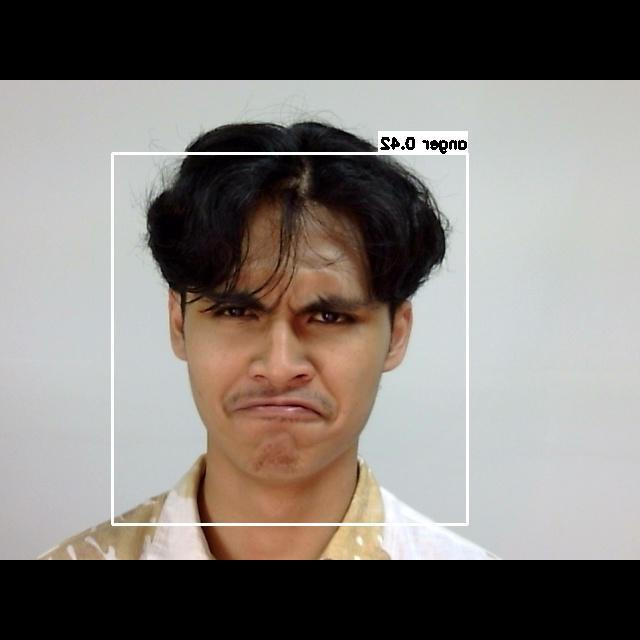Sad: (176, 256, 386, 461)
